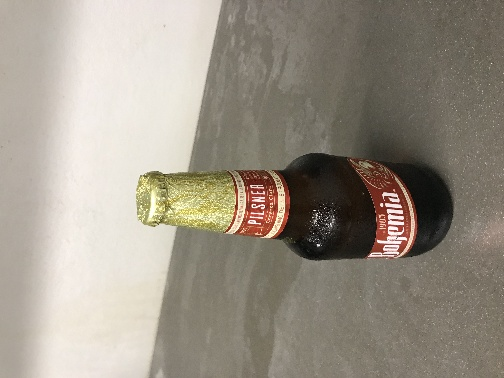BPB: (102, 125, 322, 172), (265, 135, 310, 186), (167, 123, 207, 172)
